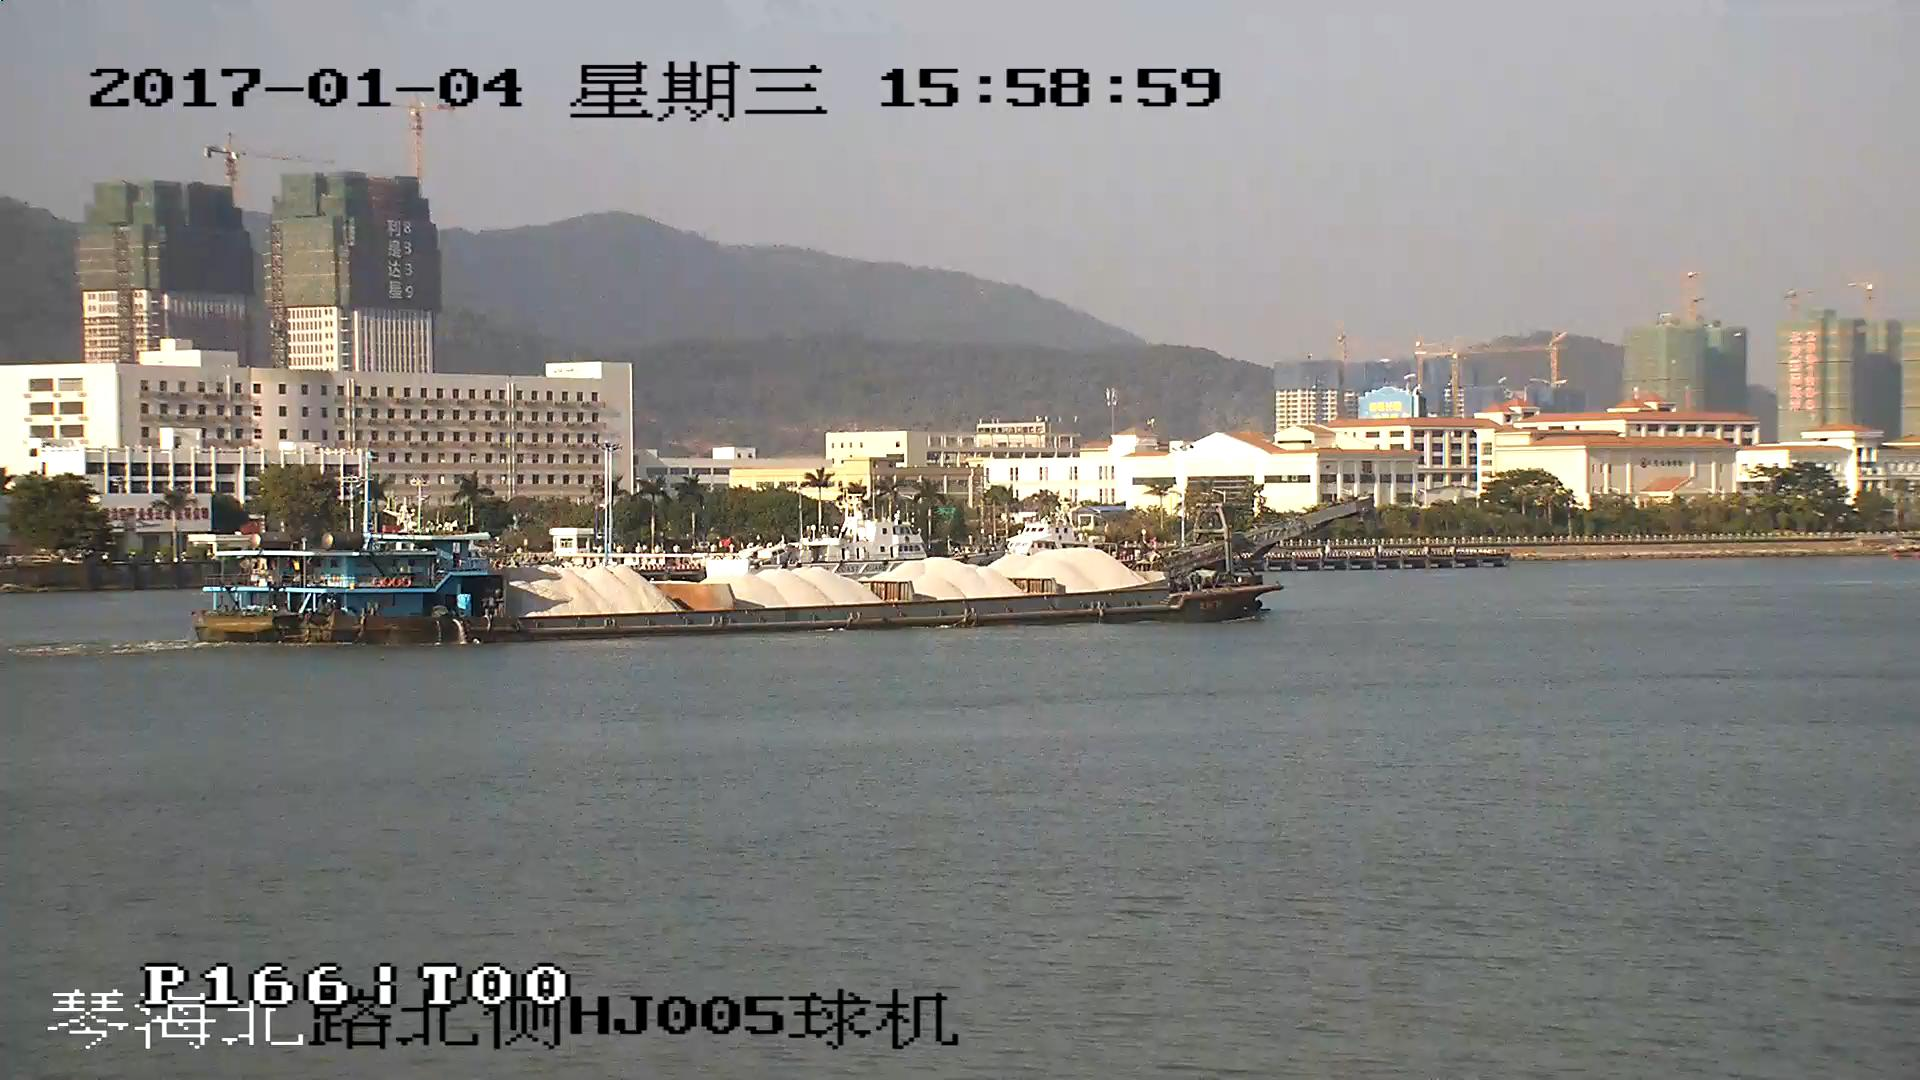ore carrier: (194, 497, 1363, 647)
